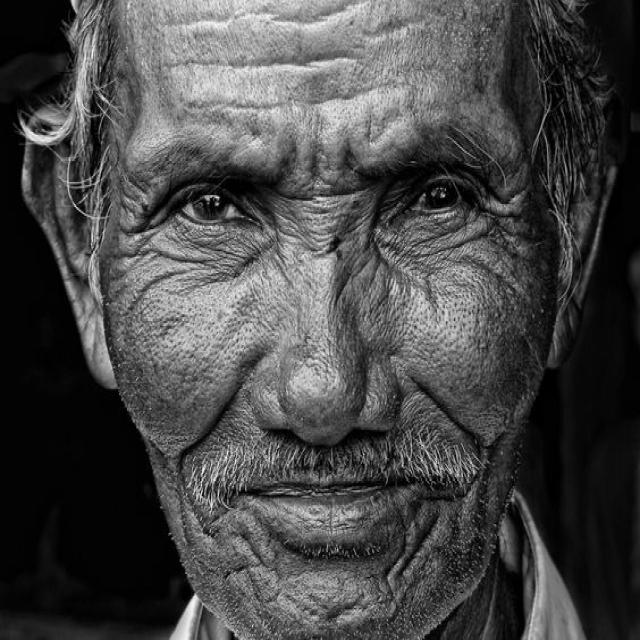front: (116, 115, 545, 612)
